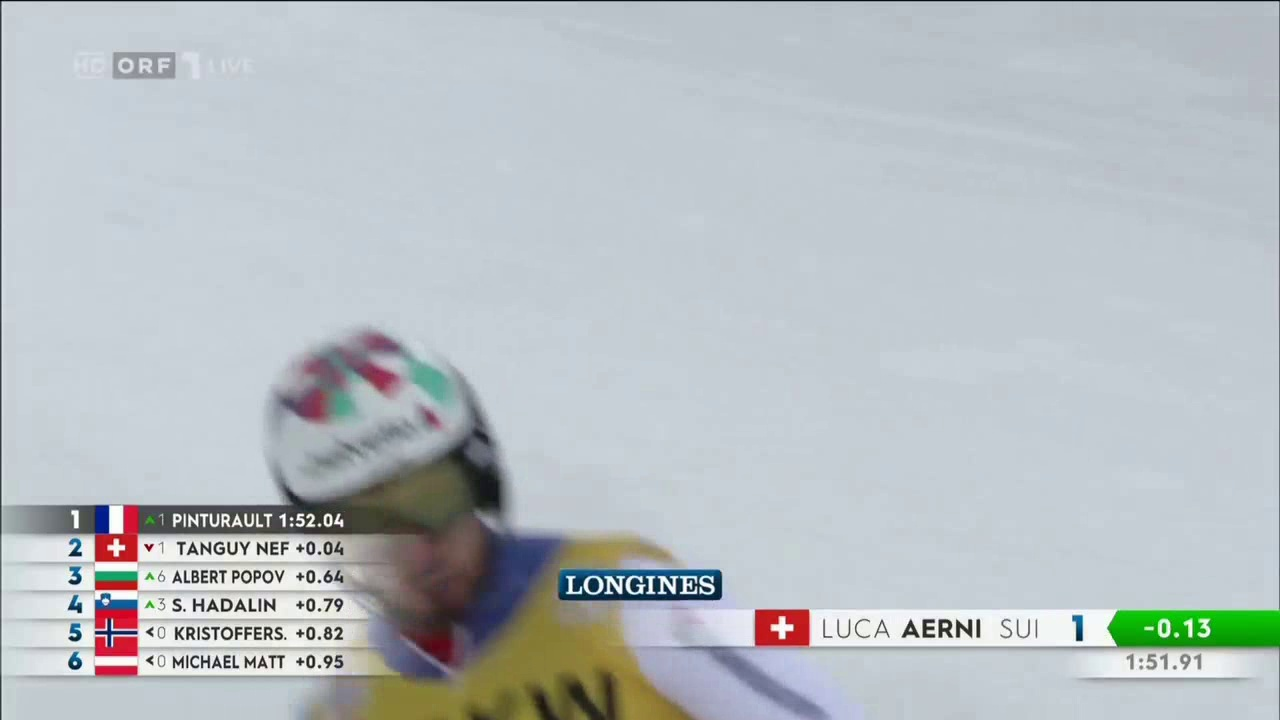longines: (568, 572, 724, 604)
